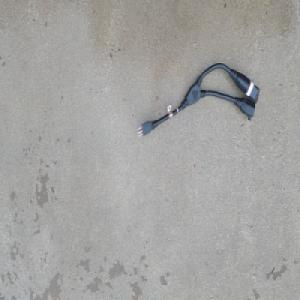Wire: (136, 61, 259, 138)
